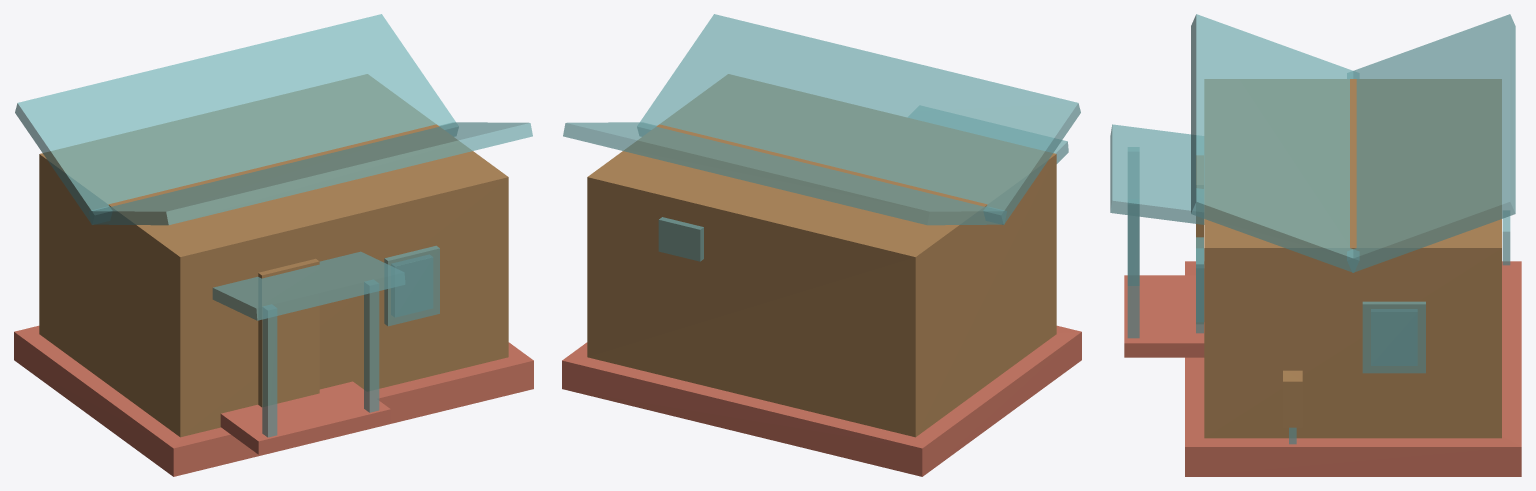
The model's file is worker-cabin.source.glb.
3 views of the same model, side by side, from view 1: azimuth 30°, elevation 25°; view 2: azimuth 150°, elevation 25°; view 3: azimuth 270°, elevation 25° (orthographic). The views are drawn at different scales.
Visible parts, largest first — view 1: worker-cabin-warm-timber-cabin-body-mesh, worker-cabin-shallow-pitched-roof-rear-mesh, worker-cabin-grounded-cabin-foundation-mesh, worker-cabin-shallow-pitched-roof-front-mesh, worker-cabin-muted-teal-front-door-mesh, worker-cabin-covered-stoop-deck-mesh, worker-cabin-small-covered-stoop-roof-mesh, worker-cabin-modest-window-front-mesh, worker-cabin-dark-window-inset-front-mesh, worker-cabin-slim-stoop-post-right-mesh, worker-cabin-slim-stoop-post-left-mesh; view 2: worker-cabin-warm-timber-cabin-body-mesh, worker-cabin-shallow-pitched-roof-front-mesh, worker-cabin-grounded-cabin-foundation-mesh, worker-cabin-shallow-pitched-roof-rear-mesh, worker-cabin-small-covered-stoop-roof-mesh, worker-cabin-small-rear-vent-mesh; view 3: worker-cabin-warm-timber-cabin-body-mesh, worker-cabin-shallow-pitched-roof-rear-mesh, worker-cabin-shallow-pitched-roof-front-mesh, worker-cabin-grounded-cabin-foundation-mesh, worker-cabin-small-covered-stoop-roof-mesh, worker-cabin-covered-stoop-deck-mesh, worker-cabin-modest-window-side-mesh, worker-cabin-dark-window-inset-side-mesh, worker-cabin-slim-stoop-post-right-mesh, worker-cabin-slim-stoop-post-left-mesh, worker-cabin-narrow-exterior-utility-box-mesh, worker-cabin-modest-window-front-mesh (+3 smaller).
Boxes of the visible parts, <box> form: worker-cabin-warm-timber-cabin-body-mesh: <box>39,74,508,437</box>; worker-cabin-shallow-pitched-roof-rear-mesh: <box>15,14,458,224</box>; worker-cabin-grounded-cabin-foundation-mesh: <box>14,325,533,476</box>; worker-cabin-shallow-pitched-roof-front-mesh: <box>89,122,532,225</box>; worker-cabin-muted-teal-front-door-mesh: <box>258,258,319,407</box>; worker-cabin-covered-stoop-deck-mesh: <box>220,381,390,454</box>; worker-cabin-small-covered-stoop-roof-mesh: <box>212,251,405,320</box>; worker-cabin-modest-window-front-mesh: <box>384,245,439,326</box>; worker-cabin-dark-window-inset-front-mesh: <box>391,255,433,317</box>; worker-cabin-slim-stoop-post-right-mesh: <box>364,280,379,412</box>; worker-cabin-slim-stoop-post-left-mesh: <box>262,305,277,437</box>; worker-cabin-warm-timber-cabin-body-mesh: <box>587,74,1056,437</box>; worker-cabin-shallow-pitched-roof-front-mesh: <box>637,14,1080,224</box>; worker-cabin-grounded-cabin-foundation-mesh: <box>562,325,1081,476</box>; worker-cabin-shallow-pitched-roof-rear-mesh: <box>563,122,1006,225</box>; worker-cabin-small-covered-stoop-roof-mesh: <box>908,106,1068,163</box>; worker-cabin-small-rear-vent-mesh: <box>658,217,703,261</box>; worker-cabin-warm-timber-cabin-body-mesh: <box>1204,79,1501,438</box>; worker-cabin-shallow-pitched-roof-rear-mesh: <box>1347,14,1515,272</box>; worker-cabin-shallow-pitched-roof-front-mesh: <box>1191,14,1358,272</box>; worker-cabin-grounded-cabin-foundation-mesh: <box>1185,261,1521,476</box>; worker-cabin-small-covered-stoop-roof-mesh: <box>1110,124,1204,224</box>; worker-cabin-covered-stoop-deck-mesh: <box>1124,275,1204,357</box>; worker-cabin-modest-window-side-mesh: <box>1362,301,1425,373</box>; worker-cabin-dark-window-inset-side-mesh: <box>1371,309,1417,365</box>; worker-cabin-slim-stoop-post-right-mesh: <box>1127,200,1139,338</box>; worker-cabin-slim-stoop-post-left-mesh: <box>1128,147,1138,285</box>; worker-cabin-narrow-exterior-utility-box-mesh: <box>1283,370,1302,427</box>; worker-cabin-modest-window-front-mesh: <box>1196,237,1203,333</box>.
Size of the model in its own units: 4.6 by 3.12 by 4.21.
